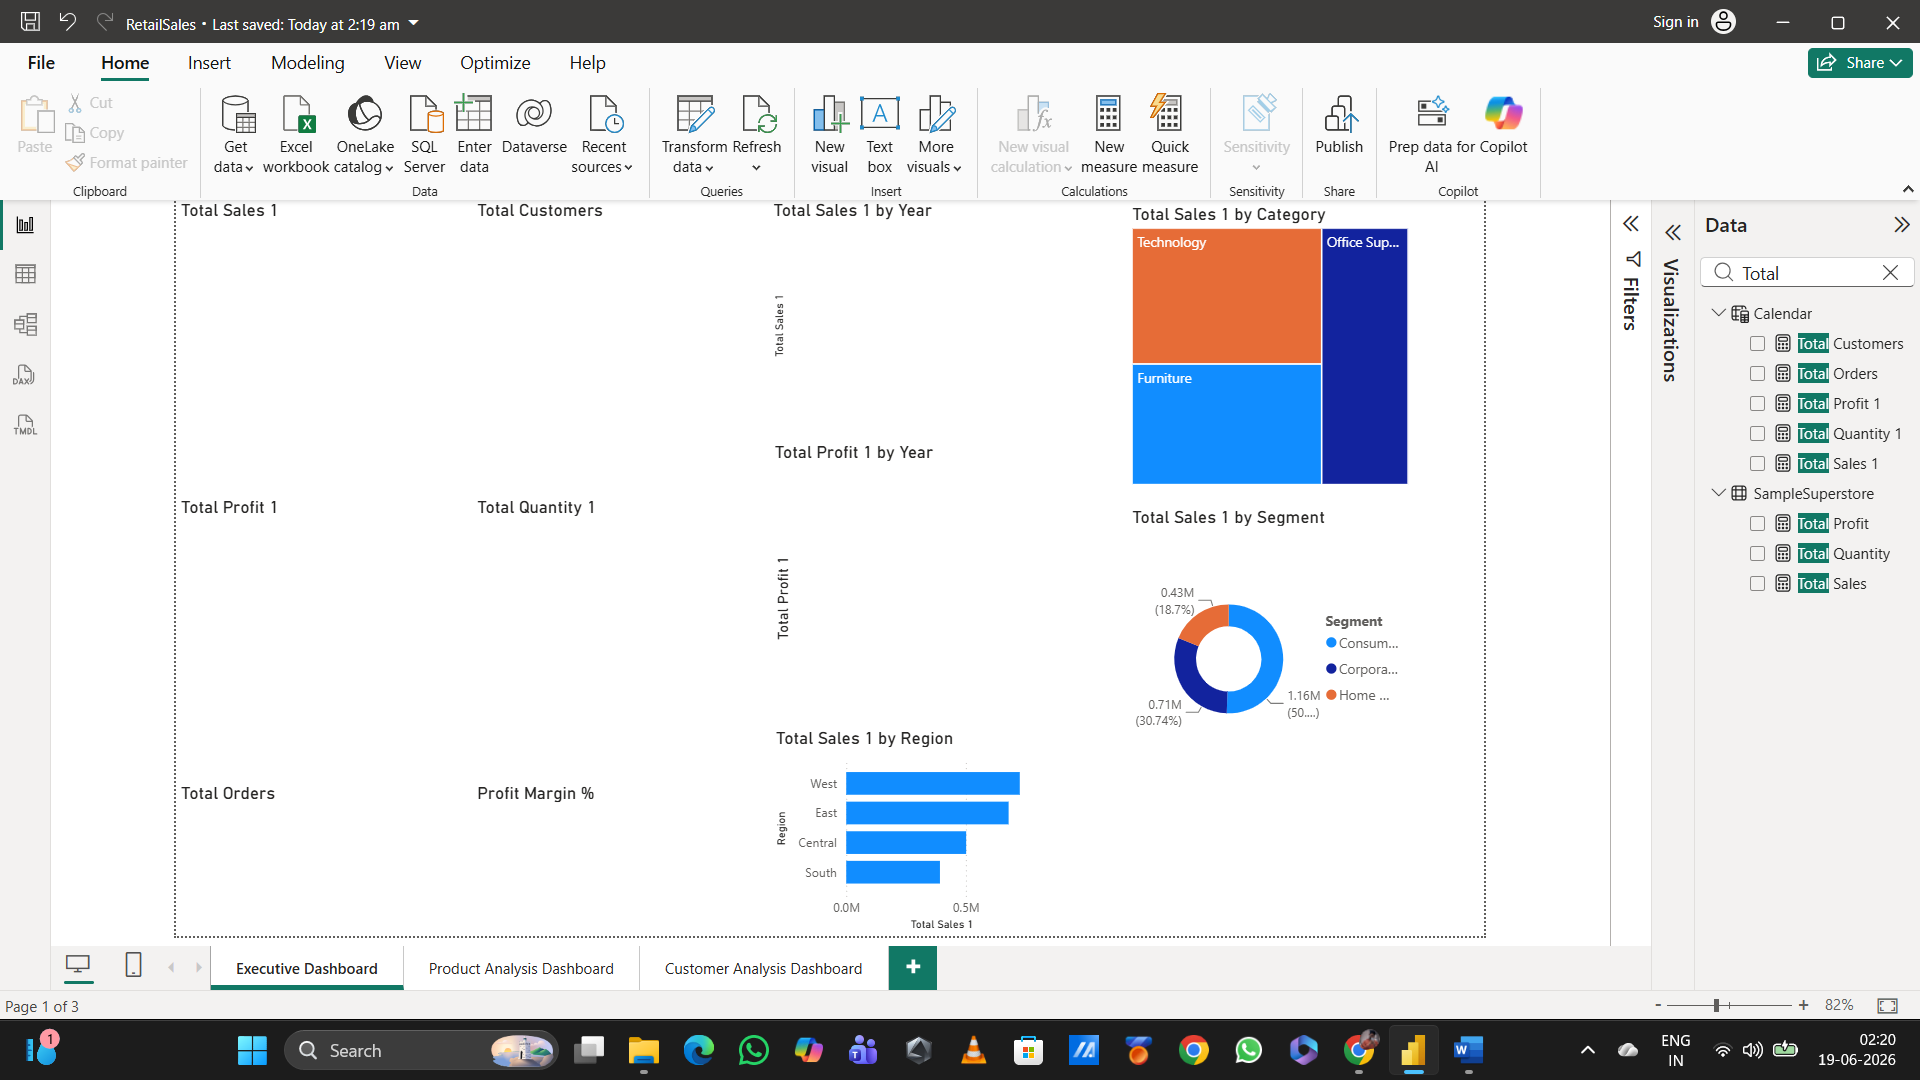

This screenshot's page, from the dashboard's own definition file:
{"tool":"powerbi","page":{"name":"Executive Dashboard","canvas":[1280,720],"ordinal":0},"visuals":[{"type":"kpi","fields":{"Indicator":["Calendar.Total Sales 1"]},"box":[0,0,289.5,289.5],"z":0},{"type":"kpi","fields":{"Indicator":["Calendar.Total Profit 1"]},"box":[0,290,280,280],"z":1000},{"type":"kpi","fields":{"Indicator":["Calendar.Total Orders"]},"box":[0,570,280,150],"z":2000},{"type":"kpi","fields":{"Indicator":["Calendar.Total Customers"]},"box":[290,0,280,280],"z":3000},{"type":"kpi","fields":{"Indicator":["Calendar.Total Quantity 1"]},"box":[290,290,280,280],"z":4000},{"type":"kpi","fields":{"Indicator":["Calendar.Profit Margin %"]},"box":[290,570,280,150],"z":5000},{"type":"lineChart","fields":{"Category":["Calendar.Date.Variation.Date Hierarchy.Year","Calendar.Date.Variation.Date Hierarchy.Quarter","Calendar.Date.Variation.Date Hierarchy.Month","Calendar.Date.Variation.Date Hierarchy.Day"],"Y":["Calendar.Total Sales 1"]},"box":[579.6,0,281.3,218.9],"z":6000},{"type":"lineChart","fields":{"Category":["Calendar.Date.Variation.Date Hierarchy.Year","Calendar.Date.Variation.Date Hierarchy.Quarter","Calendar.Date.Variation.Date Hierarchy.Month","Calendar.Date.Variation.Date Hierarchy.Day"],"Y":["Calendar.Total Profit 1"]},"box":[580.8,236,280,280],"z":7000},{"type":"clusteredBarChart","fields":{"Category":["SampleSuperstore.Region"],"Y":["Calendar.Total Sales 1"]},"box":[582.1,516,280,204.2],"z":8000},{"type":"treemap","fields":{"Group":["SampleSuperstore.Category"],"Values":["Calendar.Total Sales 1"]},"box":[930.4,4.1,279.9,279.9],"z":9000},{"type":"donutChart","fields":{"Category":["SampleSuperstore.Segment"],"Y":["Calendar.Total Sales 1"]},"box":[930.4,299.1,279.9,279.9],"z":10000}]}

Visuals, with their boxes on the page's 1280x720 design canvas (x1, y1, x2, y2). These are canvas units, not pixel positions in the 1920x1080 screenshot, which may show the page scaled, cropped or inside an application window:
kpi - Calendar.Total Sales 1: bbox(0, 0, 290, 290)
kpi - Calendar.Total Profit 1: bbox(0, 290, 280, 570)
kpi - Calendar.Total Orders: bbox(0, 570, 280, 720)
kpi - Calendar.Total Customers: bbox(290, 0, 570, 280)
kpi - Calendar.Total Quantity 1: bbox(290, 290, 570, 570)
kpi - Calendar.Profit Margin %: bbox(290, 570, 570, 720)
lineChart - Calendar.Date.Variation.Date Hierarchy.Year x Calendar.Date.Variation.Date Hierarchy.Quarter: bbox(580, 0, 861, 219)
lineChart - Calendar.Date.Variation.Date Hierarchy.Year x Calendar.Date.Variation.Date Hierarchy.Quarter: bbox(581, 236, 861, 516)
clusteredBarChart - SampleSuperstore.Region x Calendar.Total Sales 1: bbox(582, 516, 862, 720)
treemap - SampleSuperstore.Category x Calendar.Total Sales 1: bbox(930, 4, 1210, 284)
donutChart - SampleSuperstore.Segment x Calendar.Total Sales 1: bbox(930, 299, 1210, 579)
